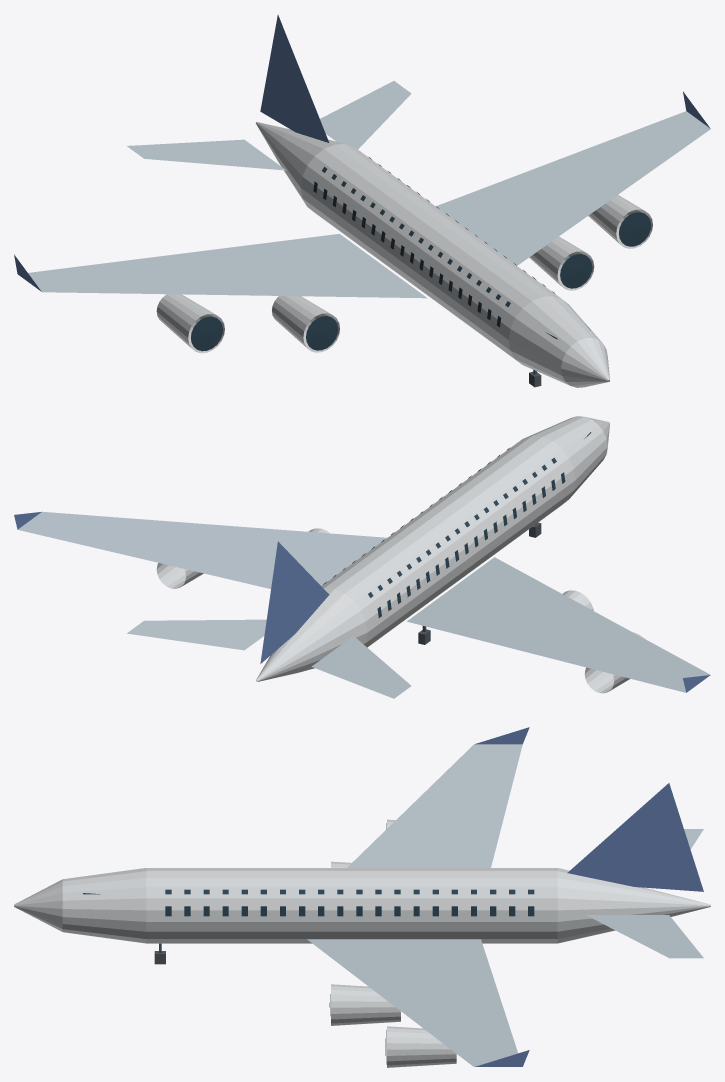
Rendered from a380-BAW.gltf.
3 views of the same model, one above another, from view 1: azimuth 30°, elevation 25°; view 2: azimuth 150°, elevation 25°; view 3: azimuth 270°, elevation 25° (orthographic).
Parts seen in each view (by area): view 1: object 1; view 2: object 1; view 3: object 1.
Boxes of the visible parts, x1,y1,x2,y2 form: object 1: [14, 15, 710, 387]; object 1: [14, 416, 710, 698]; object 1: [14, 727, 710, 1067].
Bounding box in the file's own units: 80 × 20.82 × 73.
